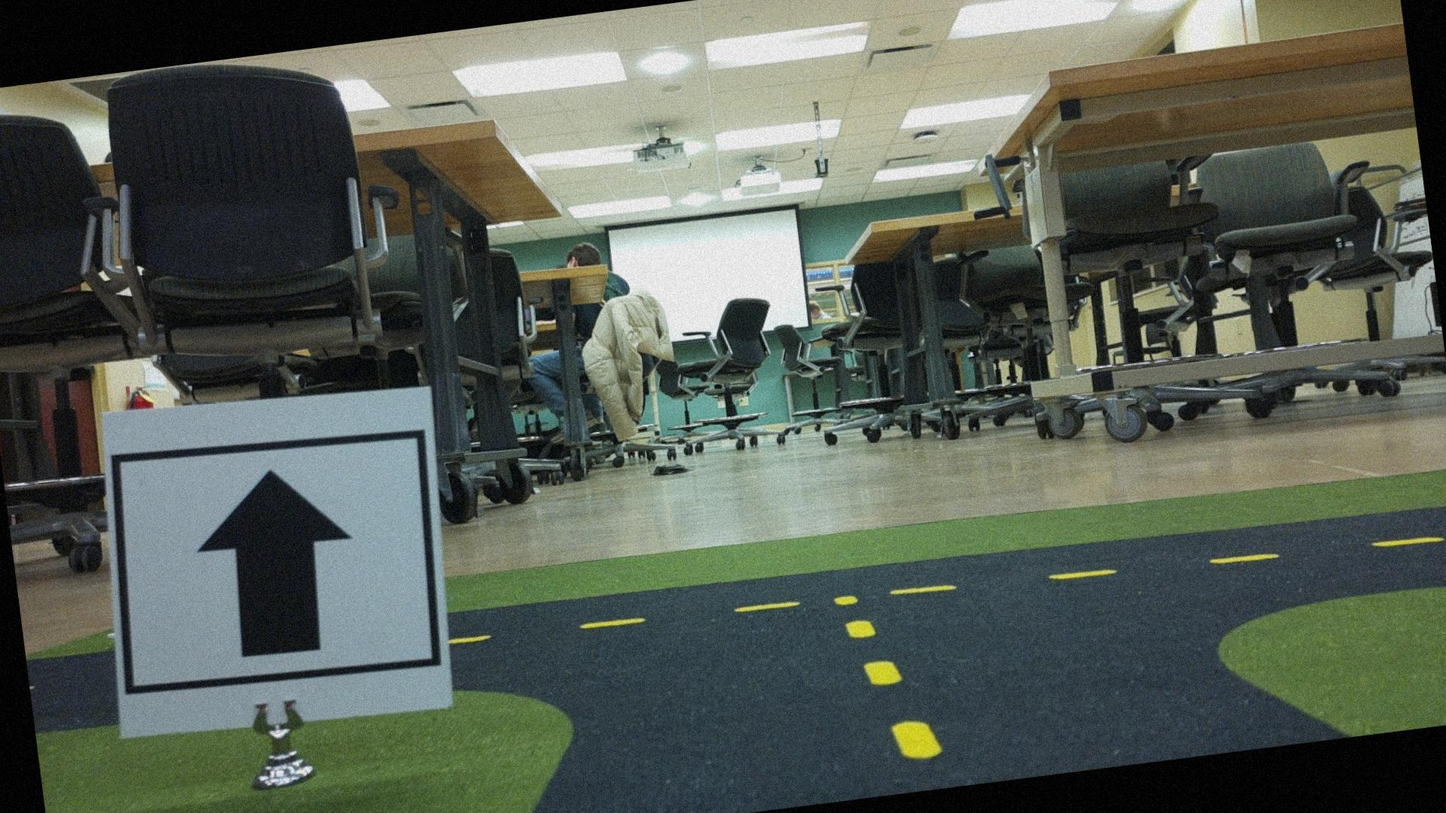gostraight: (104, 389, 459, 730)
yellowline: (453, 510, 1445, 664), (834, 587, 940, 770)
